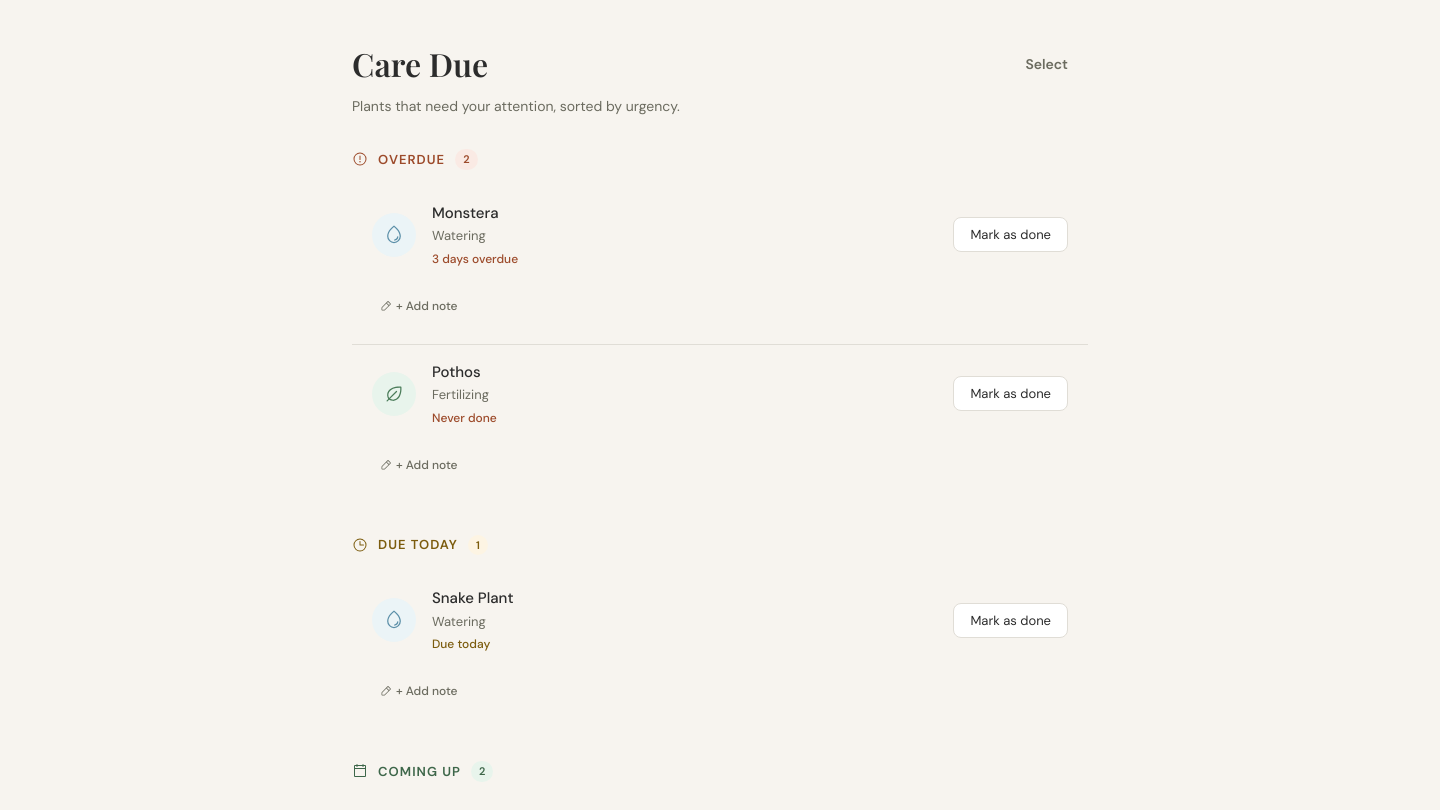
Test case: CareDuePage › Batch mark-done (T-110) › shows action bar with count when items are selected
Step 1. Click the button "Select" → (1047, 64), box x1=1005 y1=47 x2=1088 y2=81
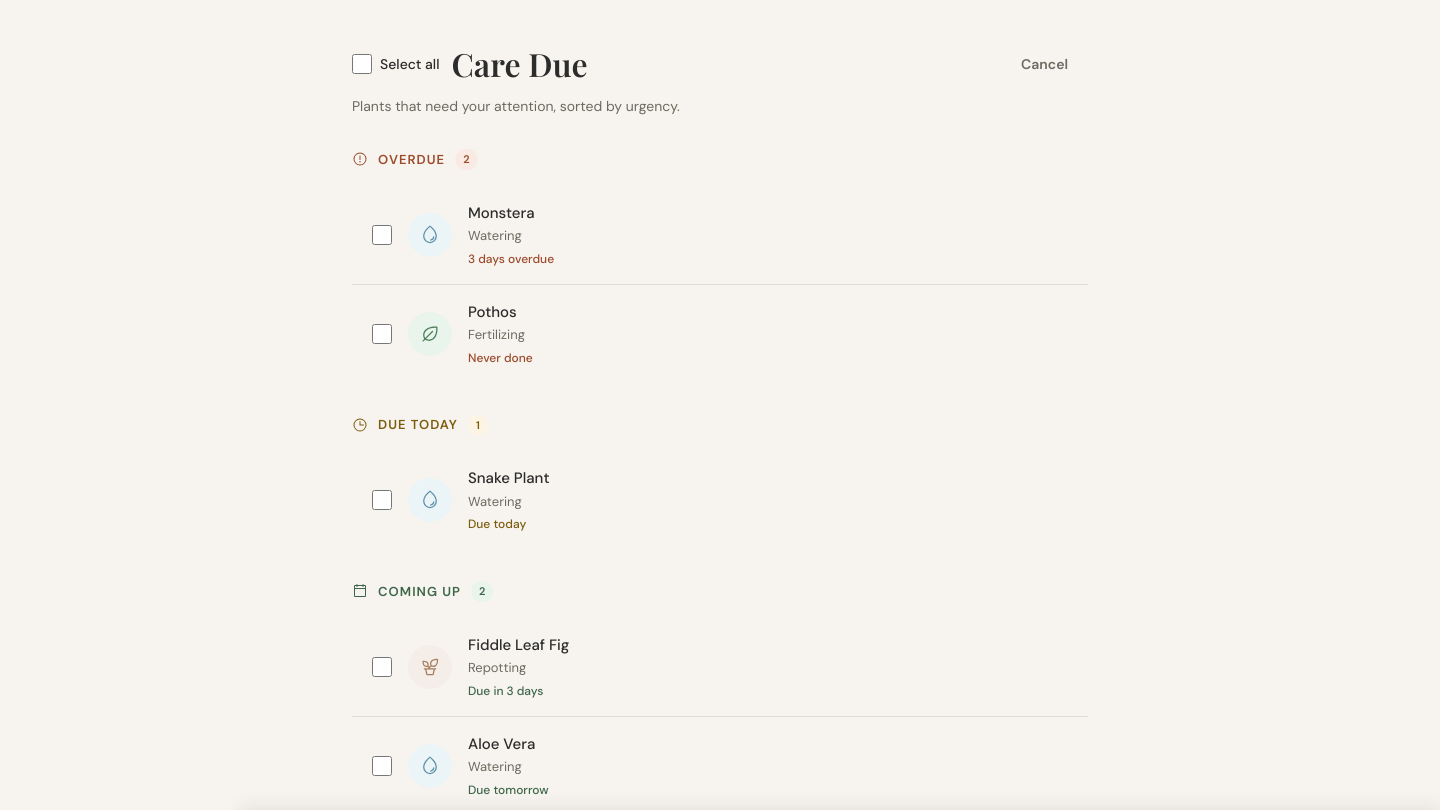
Action bar exists but no selection yet — should show "0 selected"
Step 2. Click the checkbox named "Mark Monstera watering as done" → (382, 234), box x1=372 y1=224 x2=392 y2=244
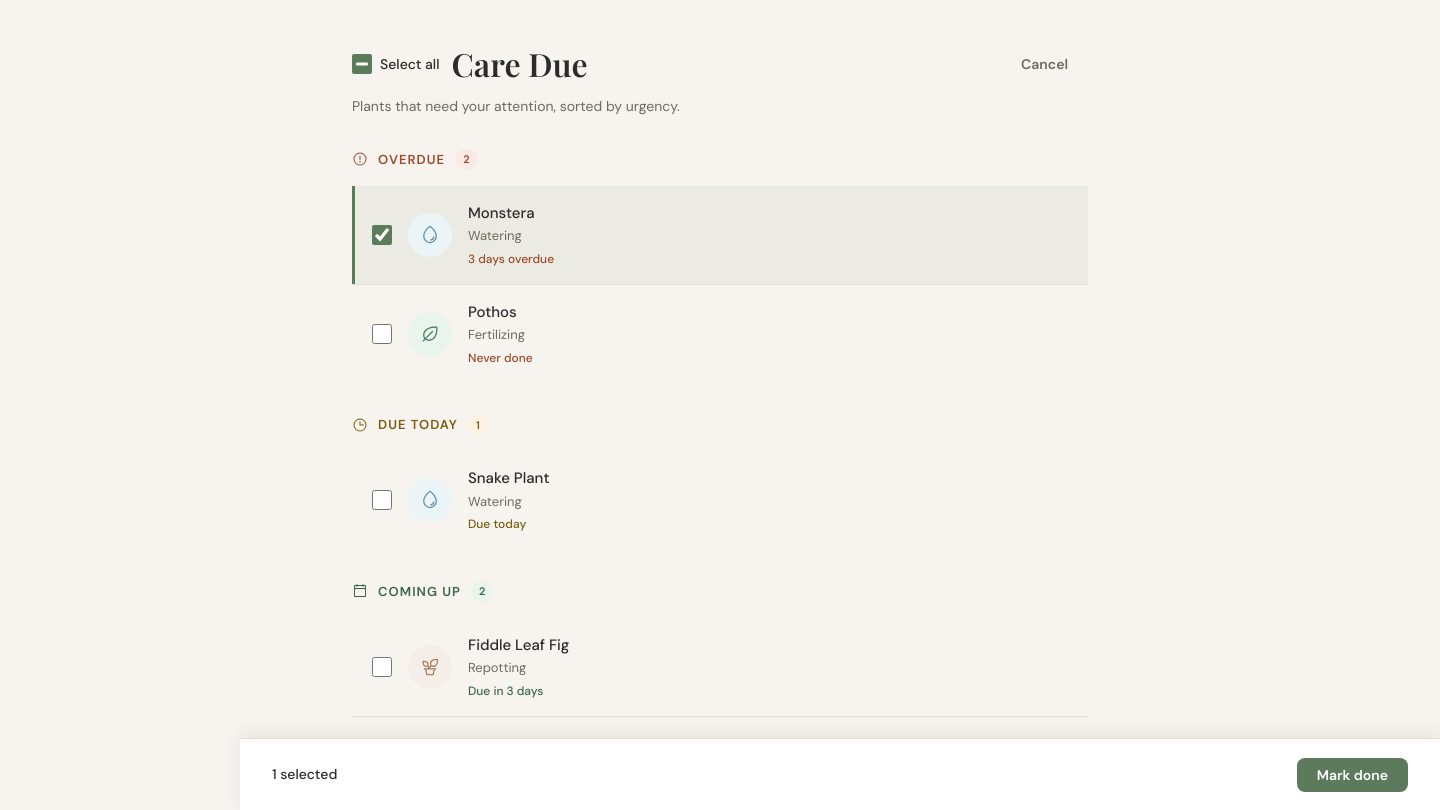
Check: the text "1 selected" is shown, box x1=272 y1=764 x2=337 y2=785
Check: the button with aria-label "Mark 1 selected items as done" is shown, box x1=1297 y1=758 x2=1408 y2=792
Select another
Step 3. Click the checkbox named "Mark Pothos fertilizing as done" → (382, 334), box x1=372 y1=324 x2=392 y2=344
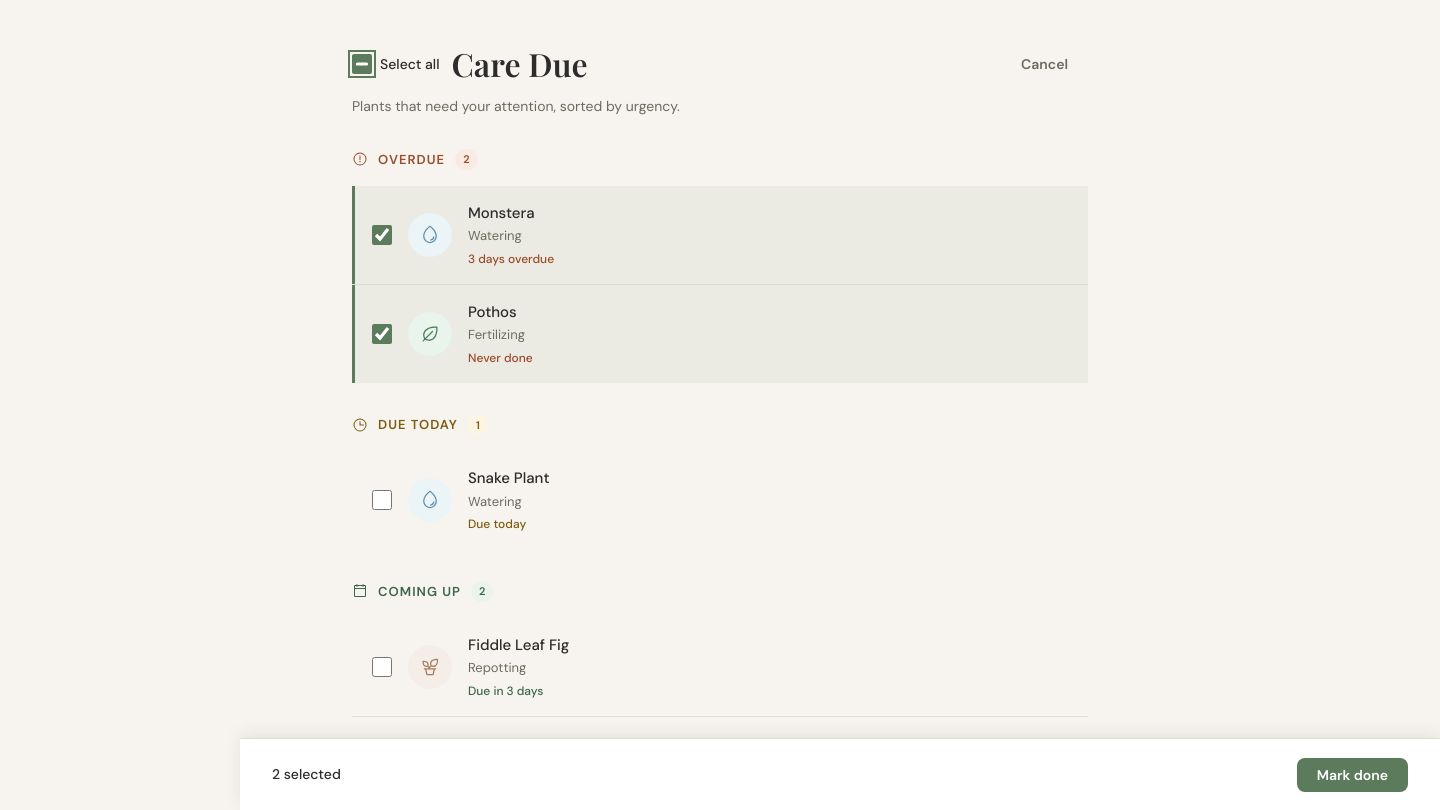
Check: the text "2 selected" is shown, box x1=272 y1=764 x2=341 y2=785
